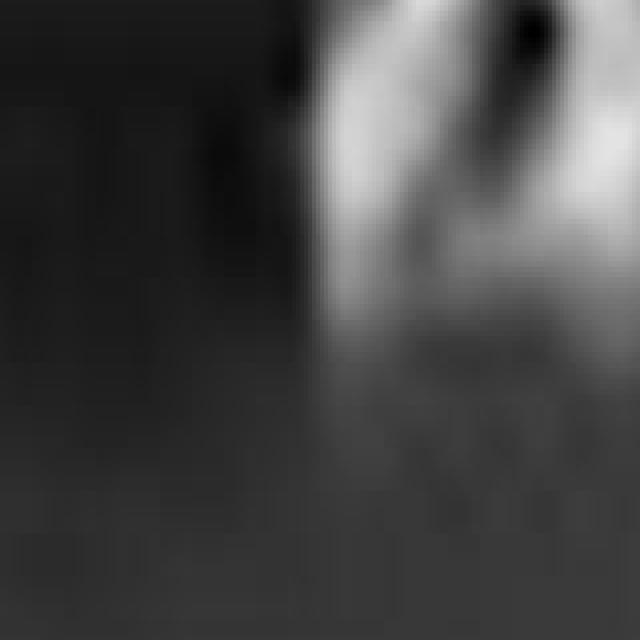person: (285, 1, 485, 412), (505, 1, 640, 380)
